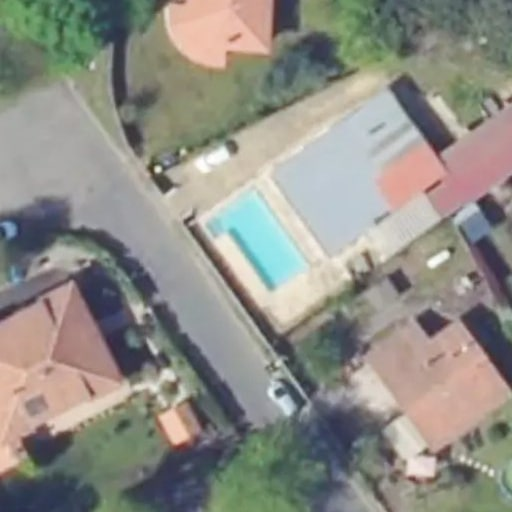pool: (202, 185, 311, 289)
